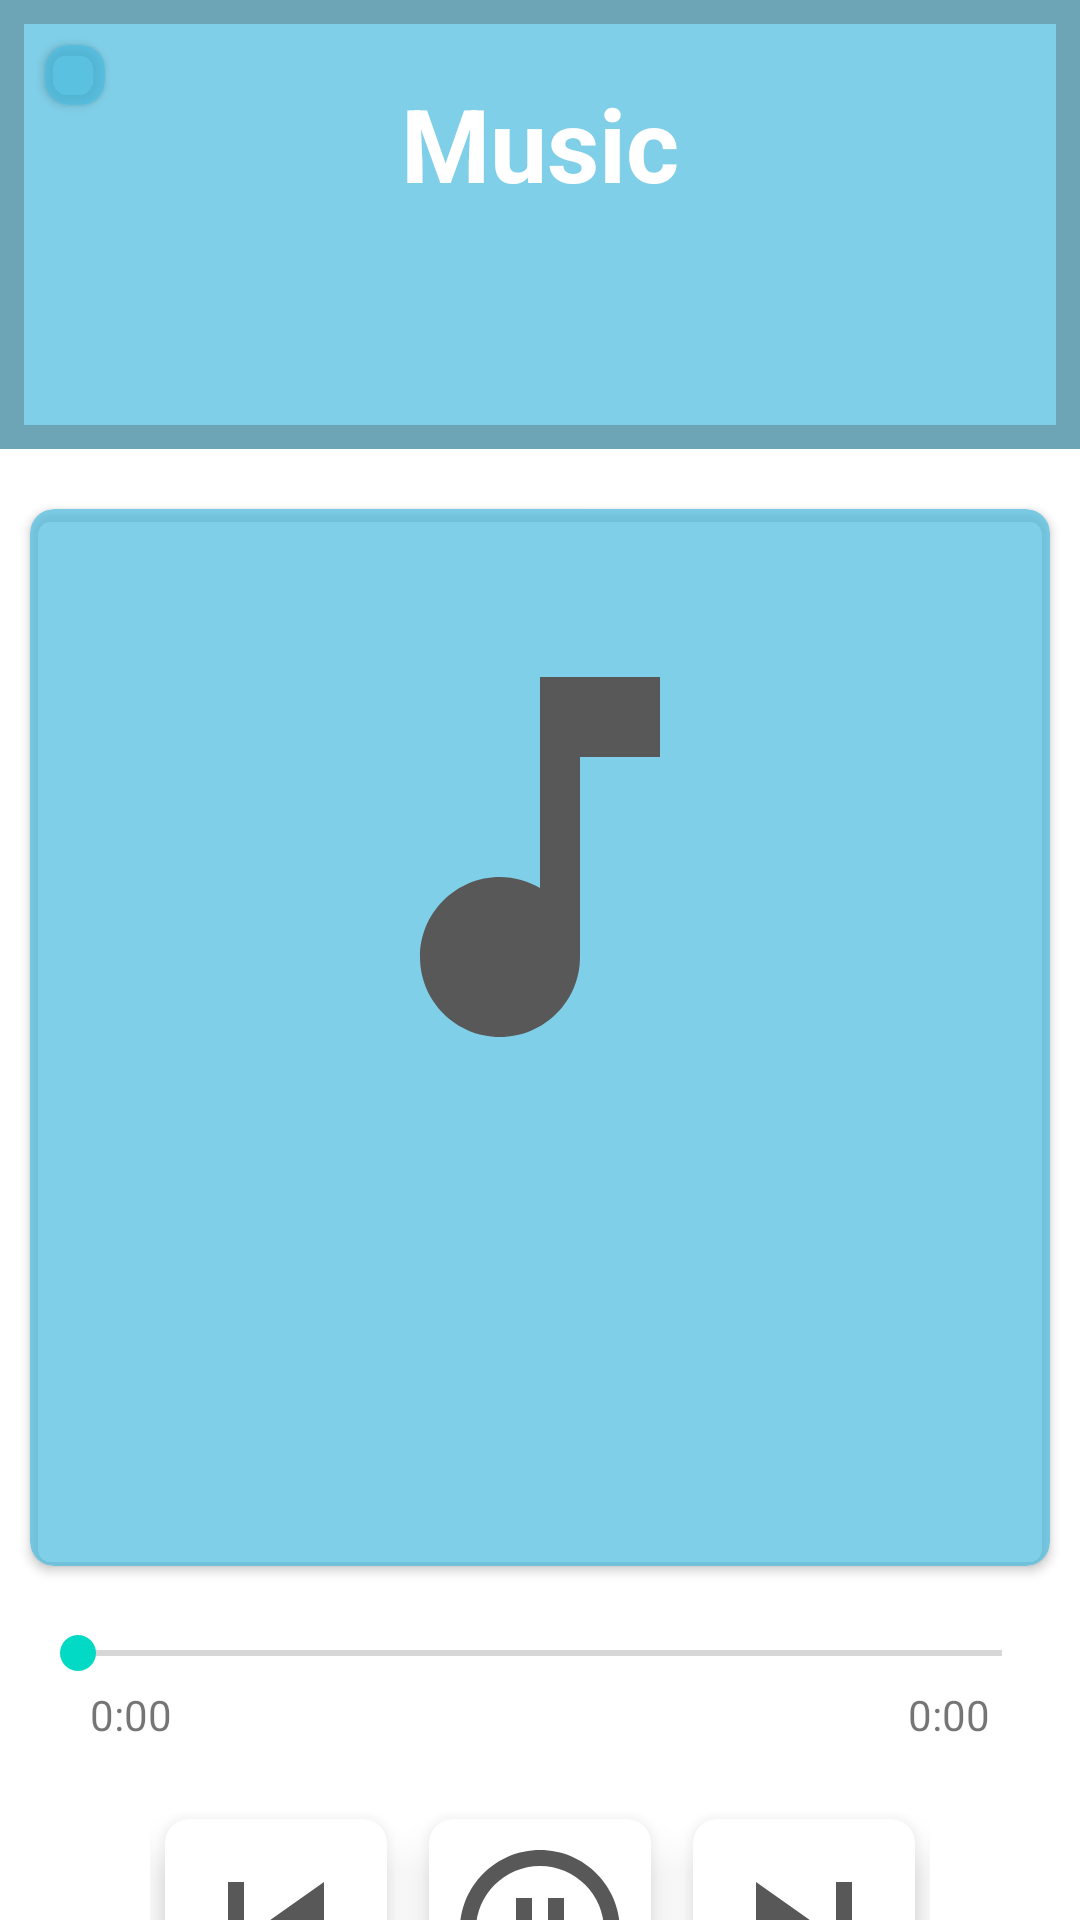

Point at icon controls on the screen. Image size 1080px x 1920px, points as (x=x, y=y).
music note: (x=540, y=857)
